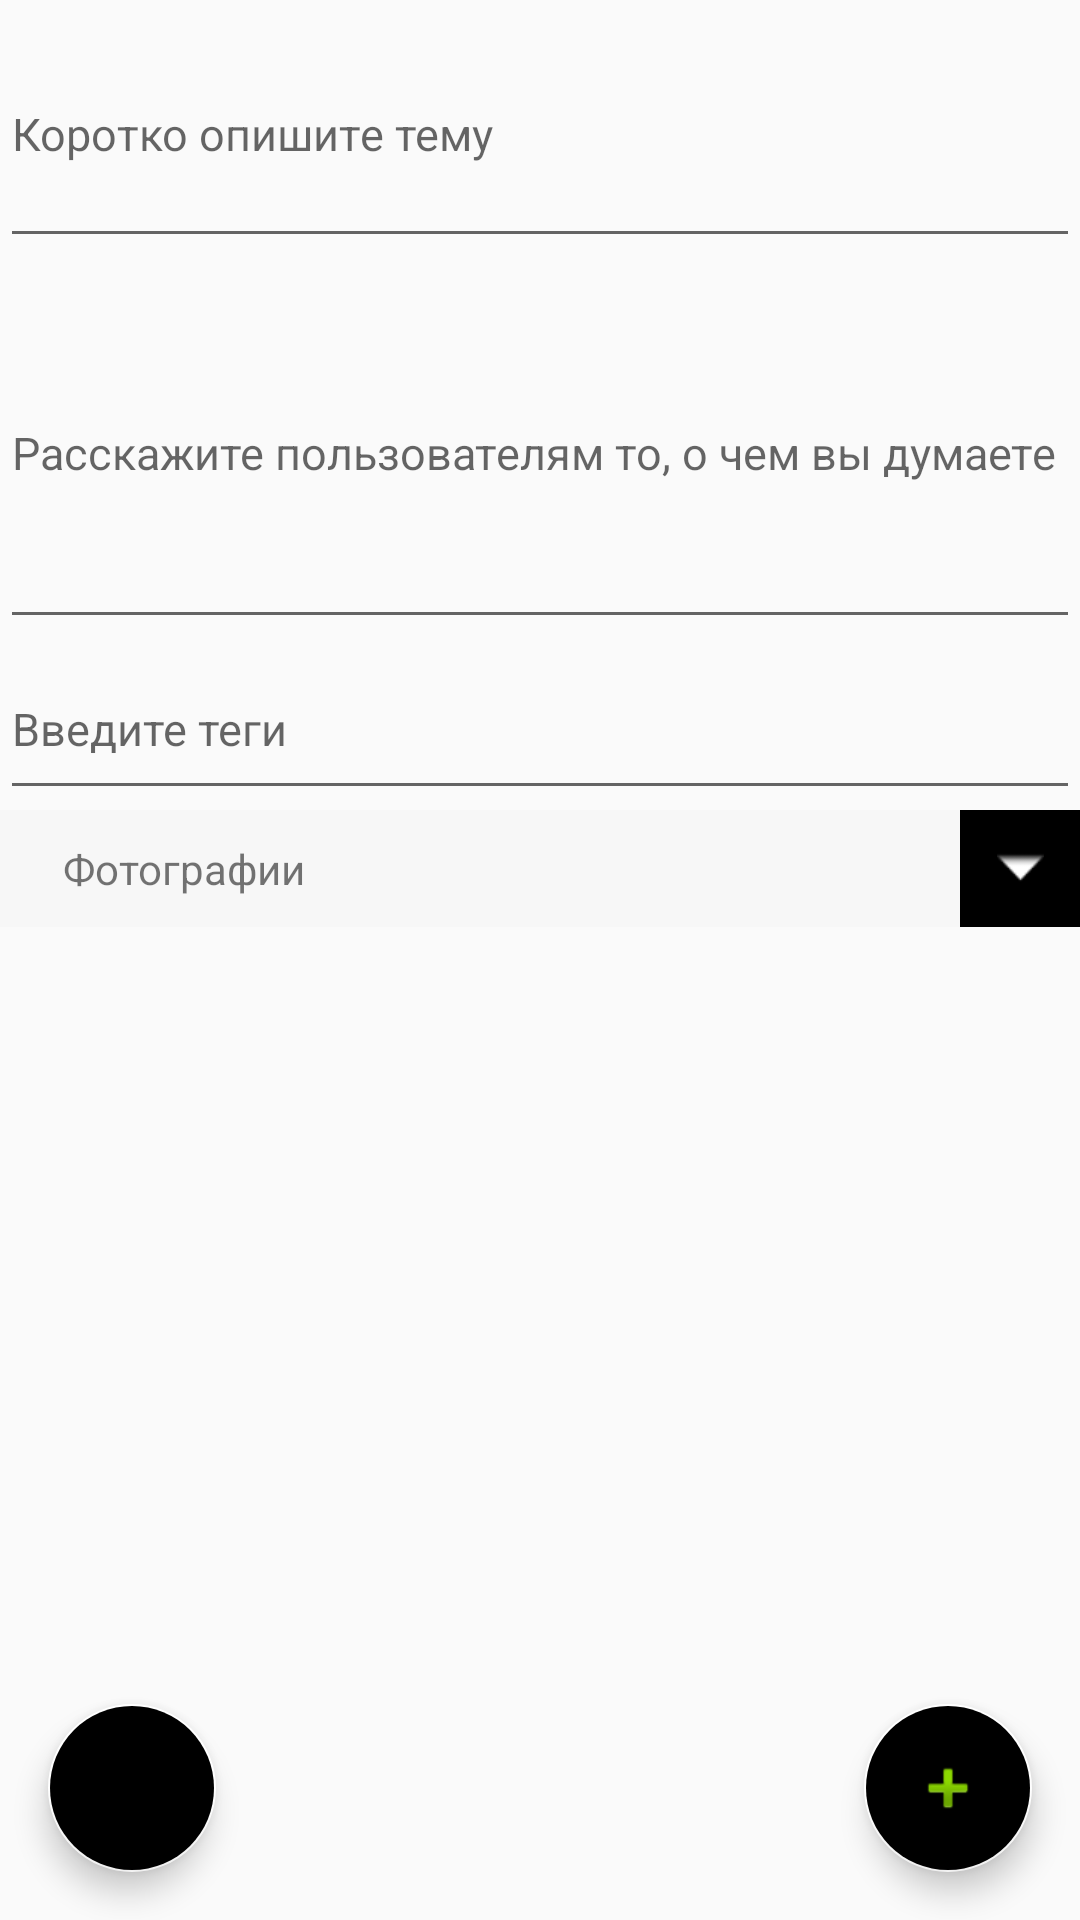

Named icons in this screenshot (1080×1920) and their bounding boxes, (x1, y1, x2, y2):
add: (866, 1706, 1030, 1870)
arrow down float: (960, 810, 1080, 927)
